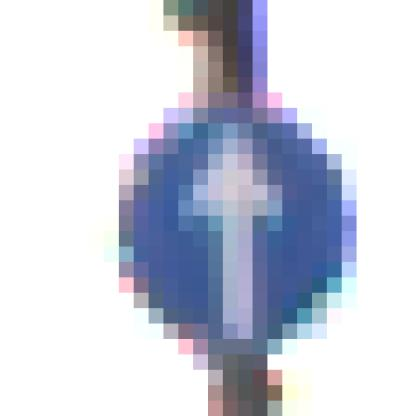AheadOnly: (90, 93, 343, 340)
